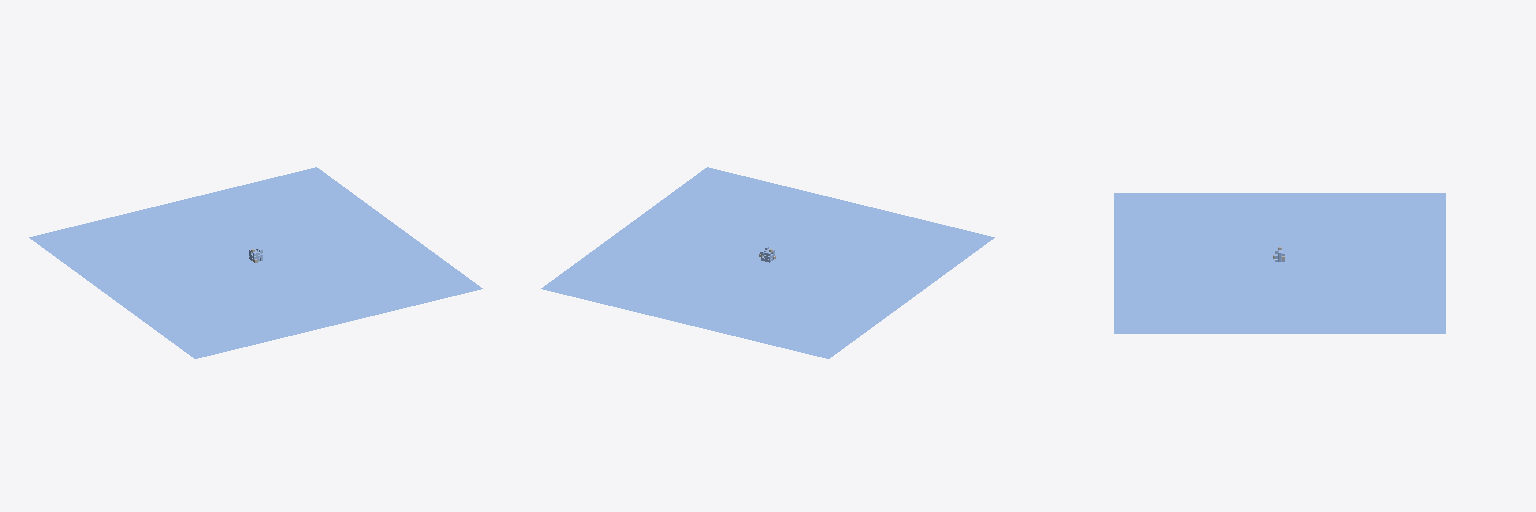
Rendered from tank.obj.
3 views of the same model, side by side, from view 1: azimuth 30°, elevation 25°; view 2: azimuth 150°, elevation 25°; view 3: azimuth 270°, elevation 25° (orthographic).
Visible parts, largest first — view 1: 平面; view 2: 平面; view 3: 平面.
Boxes of the visible parts, x1=… form: 平面: x1=29, y1=167, x2=482, y2=358; 平面: x1=541, y1=167, x2=994, y2=358; 平面: x1=1114, y1=193, x2=1445, y2=333.
Size of the model in its own units: 37.22 by 1.78 by 37.22.